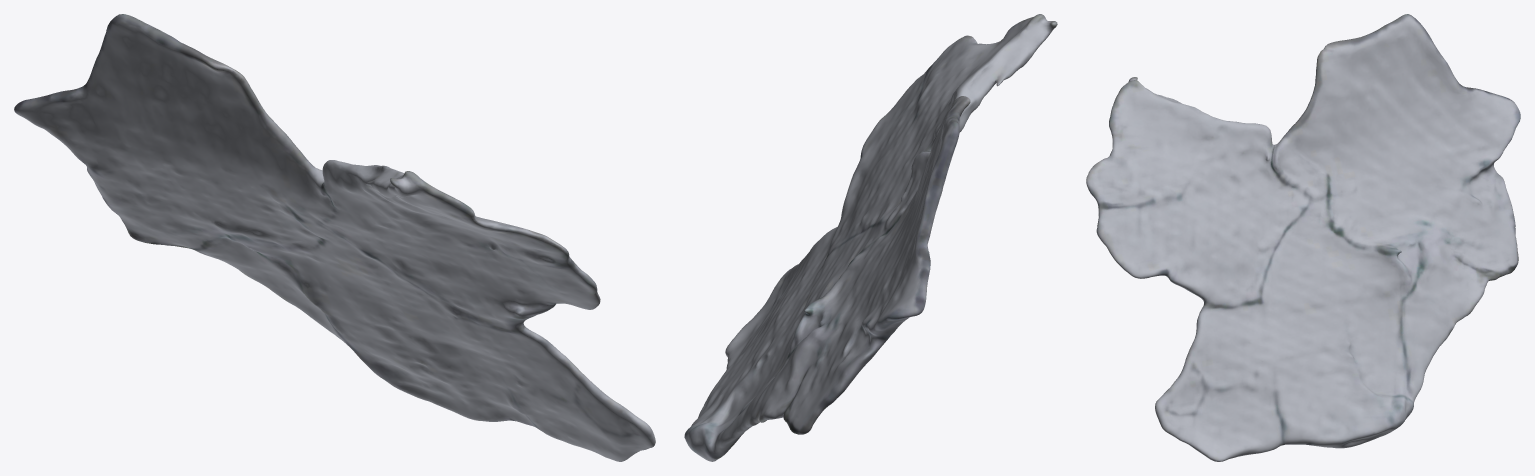
Rendered from be8d0a0d7be9_ice_crack_white__3d.fbx.
The picture shows the model from 3 angles, left to right: view 1: azimuth 30°, elevation 25°; view 2: azimuth 150°, elevation 25°; view 3: azimuth 270°, elevation 25°; orthographic projection. The views are drawn at different scales.
Parts seen in each view (by area): view 1: high_poly; view 2: high_poly; view 3: high_poly.
Boxes of the visible parts, x1=… form: high_poly: x1=14, y1=14, x2=655, y2=461; high_poly: x1=684, y1=14, x2=1057, y2=461; high_poly: x1=1086, y1=14, x2=1520, y2=461.
Size of the model in its own units: 79.94 by 82.51 by 100.
